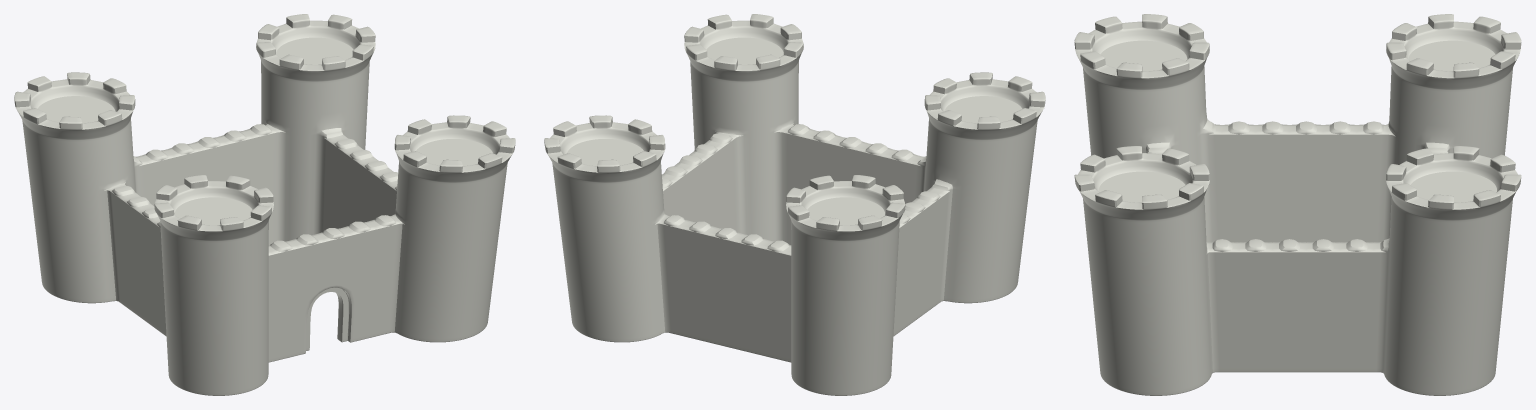
Rendered from sandcastle.fbx.
3 renders of one model, left to right at view 1: azimuth 30°, elevation 25°; view 2: azimuth 150°, elevation 25°; view 3: azimuth 270°, elevation 25°, orthographic. The views are drawn at different scales.
Visible parts, largest first — view 1: node_id5; view 2: node_id5; view 3: node_id5.
Part boxes in pixels (x1,y1,x2,y2): node_id5: (14,14,515,395); node_id5: (544,14,1045,395); node_id5: (1074,14,1521,395).
Bounding box in the file's own units: 0.512 × 0.2584 × 0.512.
Materials: 1 (1 with a texture image).
